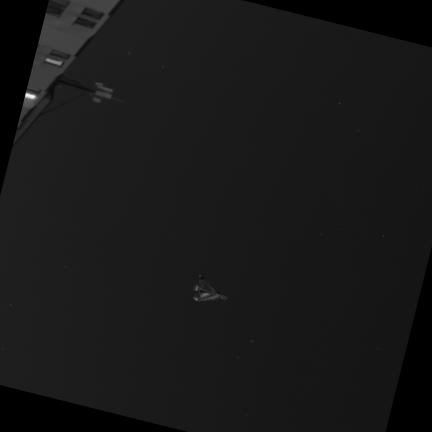Shahed: (193, 275, 228, 301)
